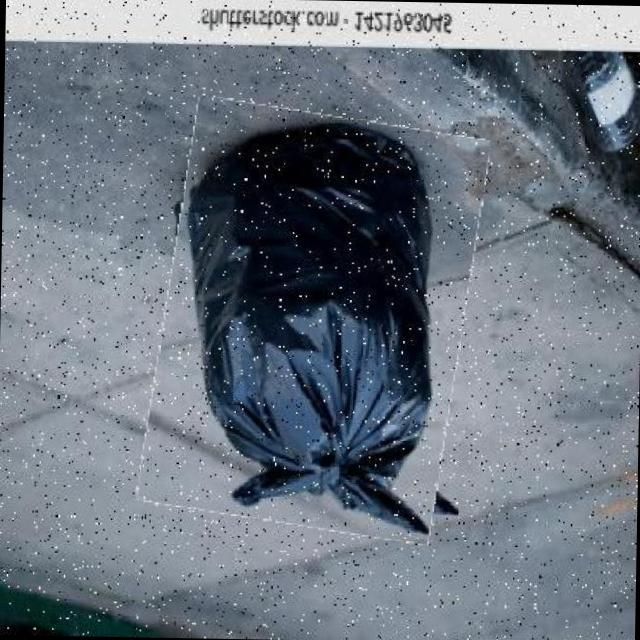KantongPlastik: (178, 122, 440, 538)
